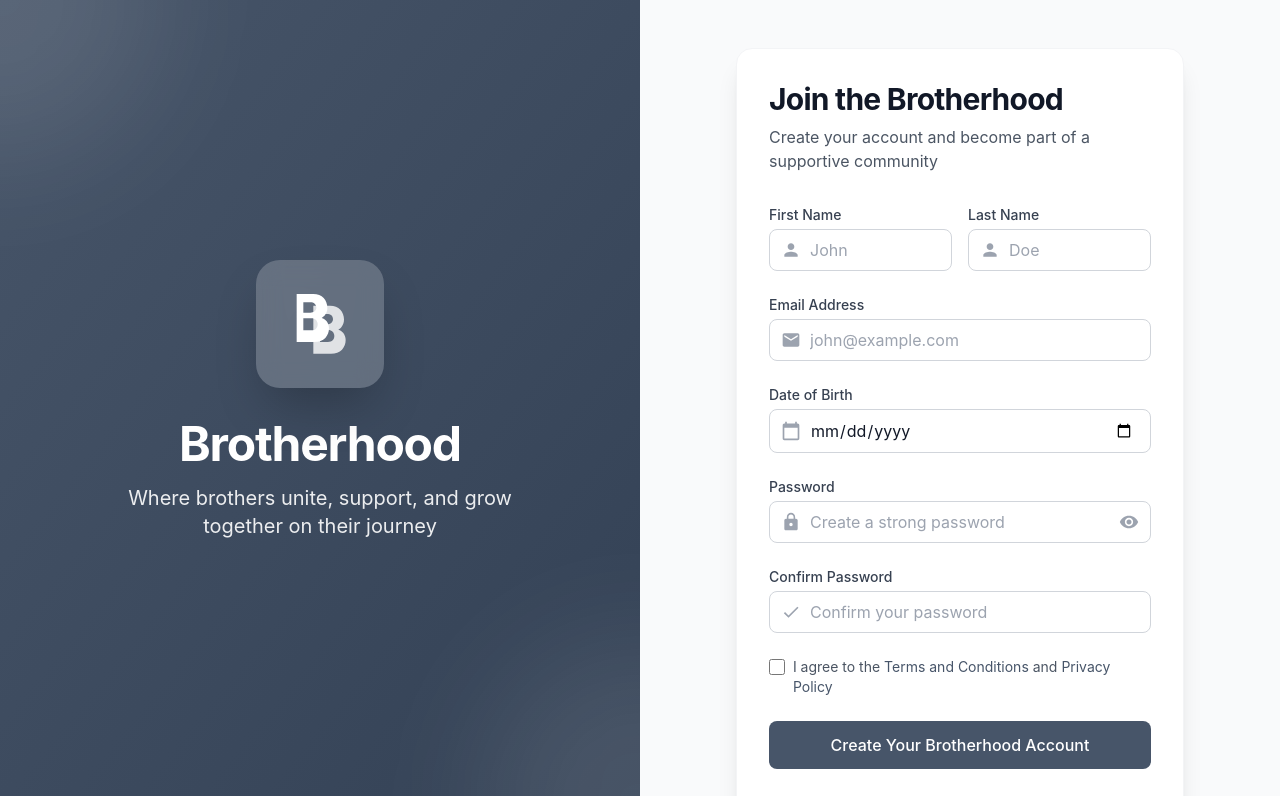
Scenario: Register Page › Form Validation › should show error for empty last name
Step 1. Click the field labelled "Last Name" → x=1060, y=250, box [968,229,1151,271]
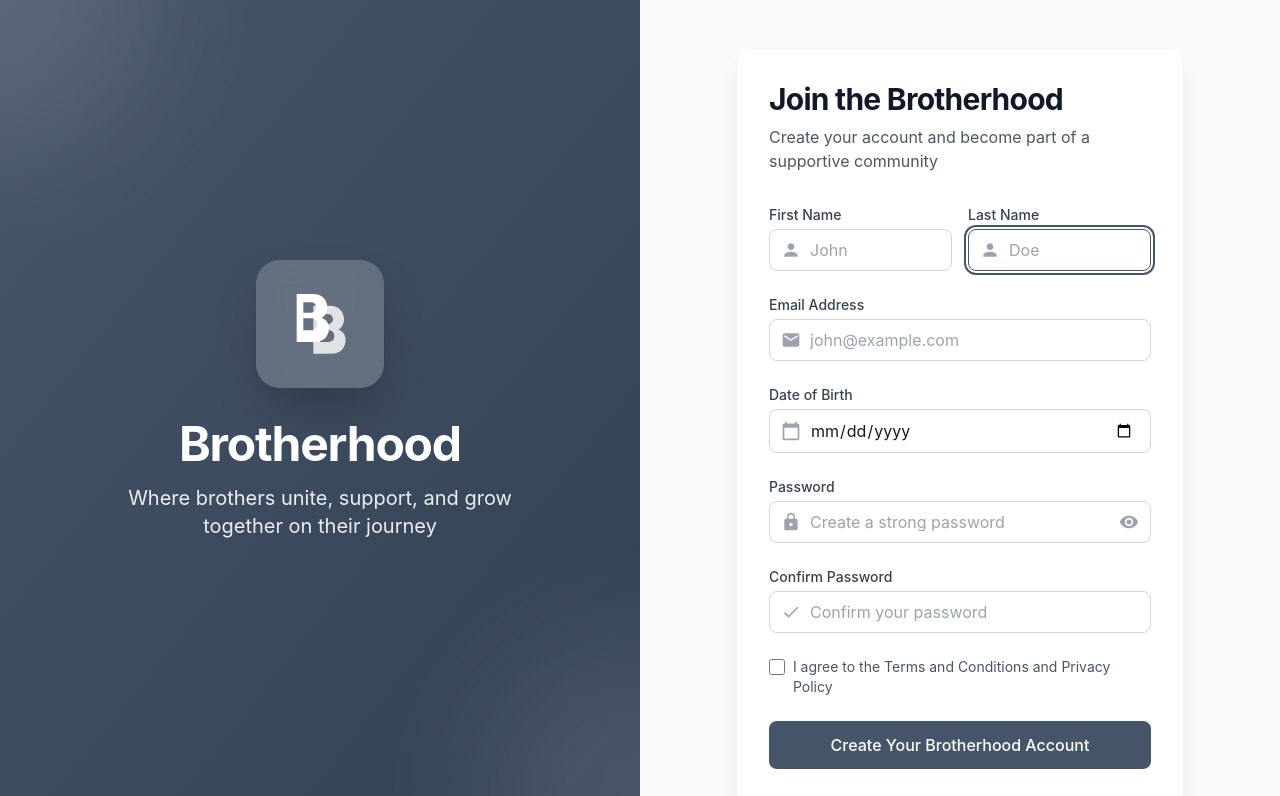
Step 2. Press Tab
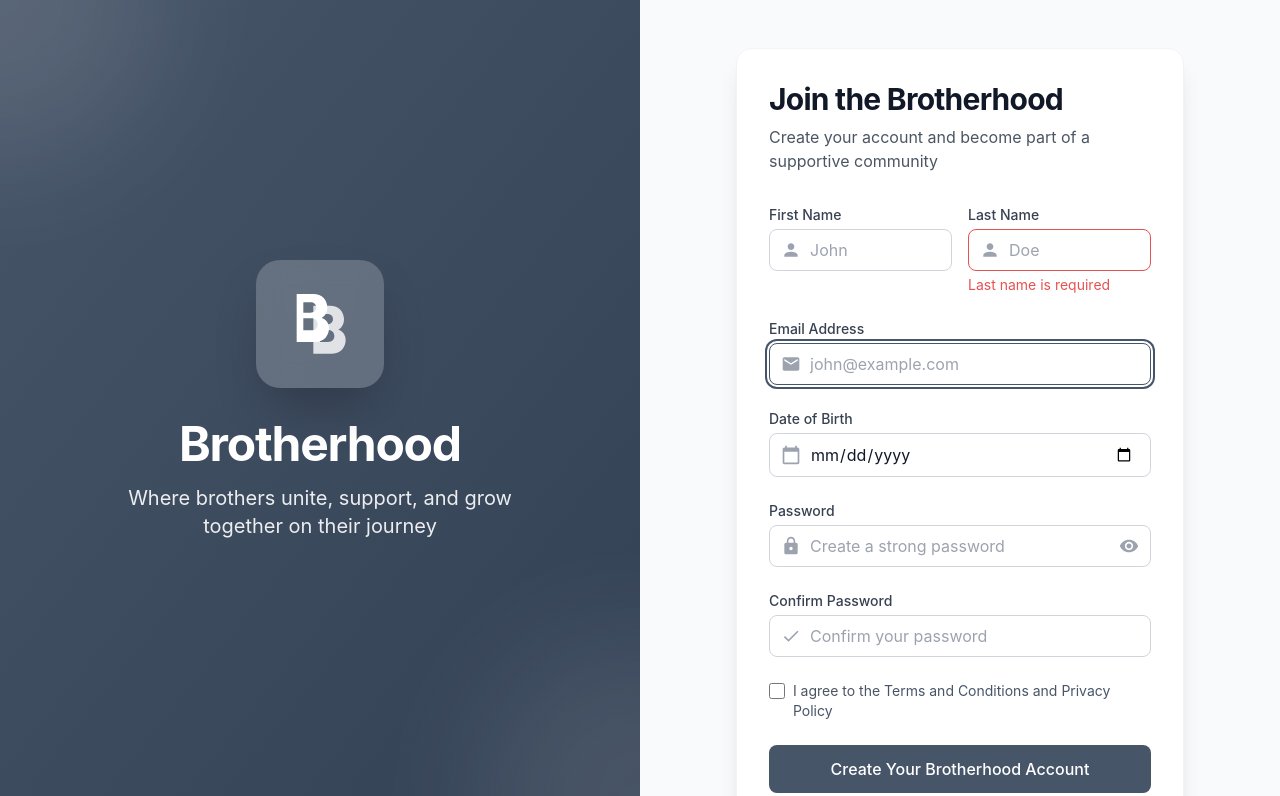
Expected: the text "Last name is required" is shown, [968,276,1110,293]
